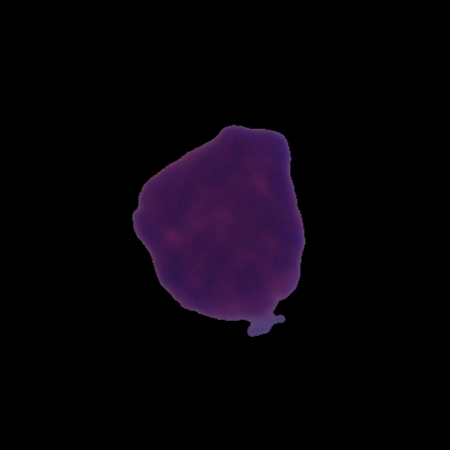ALL: (127, 119, 309, 340)
